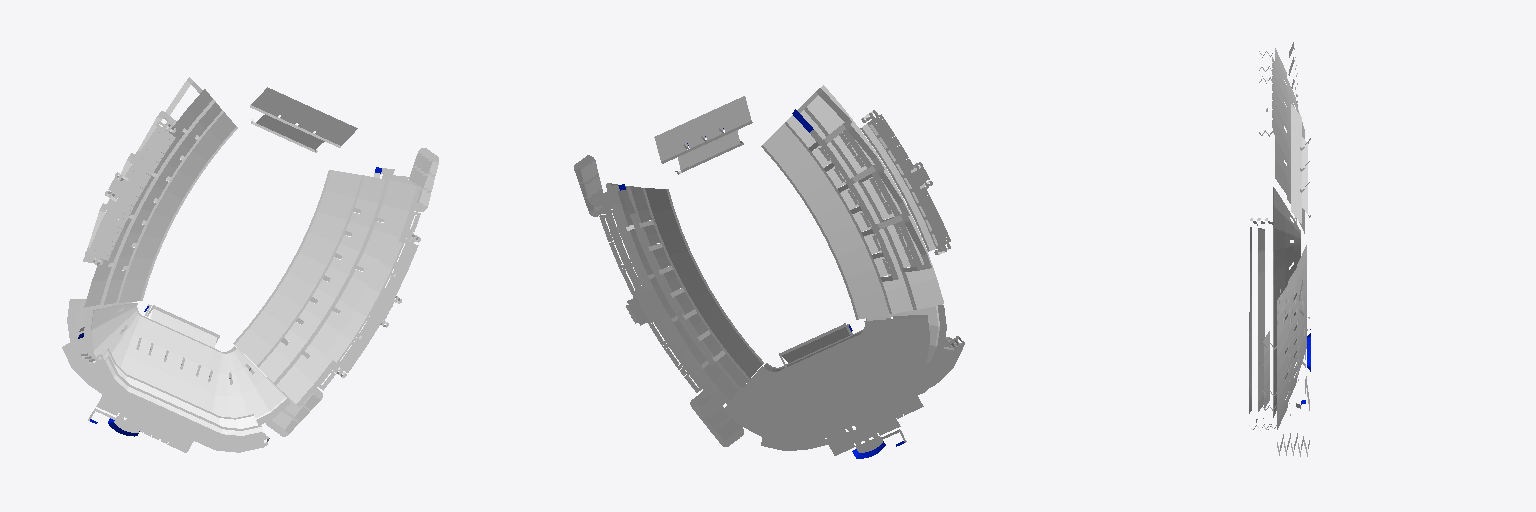
File: OleMiss.obj
3 renders of one model, left to right at view 1: azimuth 30°, elevation 25°; view 2: azimuth 150°, elevation 25°; view 3: azimuth 270°, elevation 25°, orthographic.
Visible parts, largest first — view 1: Mesh8 Group3 Model, Mesh1 Group1 Model, Mesh9 Group4 Model, Mesh7 Group2 Model, Mesh2 Group1 Model; view 2: Mesh9 Group4 Model, Mesh8 Group3 Model, Mesh2 Group1 Model, Mesh7 Group2 Model, Mesh1 Group1 Model; view 3: Mesh1 Group1 Model, Mesh8 Group3 Model, Mesh9 Group4 Model, Mesh7 Group2 Model.
Part boxes in pixels (bbox=[...]): Mesh8 Group3 Model: bbox=[233, 148, 438, 436]; Mesh1 Group1 Model: bbox=[77, 302, 290, 452]; Mesh9 Group4 Model: bbox=[83, 77, 237, 307]; Mesh7 Group2 Model: bbox=[250, 87, 357, 152]; Mesh2 Group1 Model: bbox=[62, 299, 250, 436]; Mesh9 Group4 Model: bbox=[761, 85, 950, 319]; Mesh8 Group3 Model: bbox=[574, 155, 763, 446]; Mesh2 Group1 Model: bbox=[723, 318, 934, 458]; Mesh7 Group2 Model: bbox=[654, 96, 752, 174]; Mesh1 Group1 Model: bbox=[764, 305, 964, 428]; Mesh1 Group1 Model: bbox=[1249, 187, 1305, 430]; Mesh8 Group3 Model: bbox=[1263, 245, 1309, 456]; Mesh9 Group4 Model: bbox=[1259, 42, 1304, 233]; Mesh7 Group2 Model: bbox=[1291, 104, 1310, 223].
Size of the model in its own units: 830 by 812 by 120.